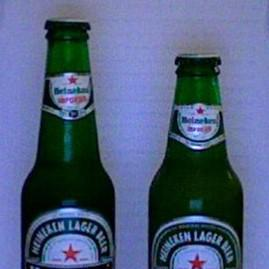beer: (21, 19, 244, 269)
